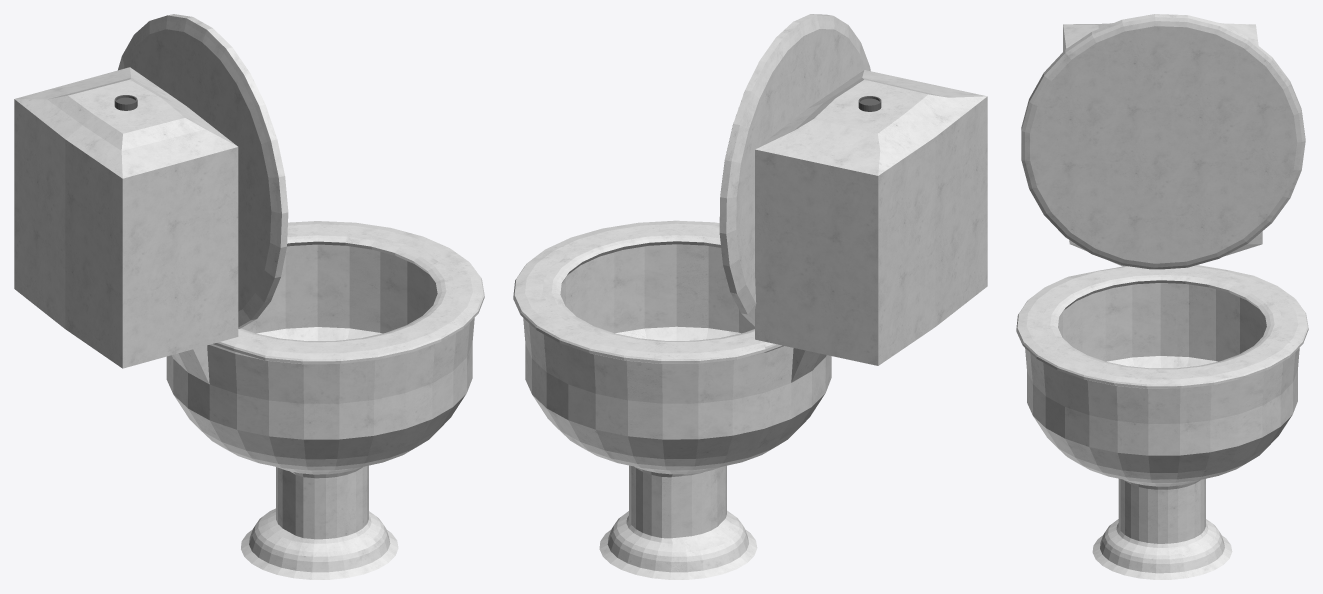
File: vater.fbx
3 views of the same model, side by side, from view 1: azimuth 30°, elevation 25°; view 2: azimuth 150°, elevation 25°; view 3: azimuth 270°, elevation 25° (orthographic). The views are drawn at different scales.
Visible parts, largest first — view 1: toilet:Mesh; view 2: toilet:Mesh; view 3: toilet:Mesh.
Boxes of the visible parts, <box> form: toilet:Mesh: <box>14,14,484,579</box>; toilet:Mesh: <box>513,14,987,579</box>; toilet:Mesh: <box>1016,14,1308,579</box>.
Size of the model in its own units: 0.8443 by 1.11 by 0.6062.
3 materials, 1 textured.
